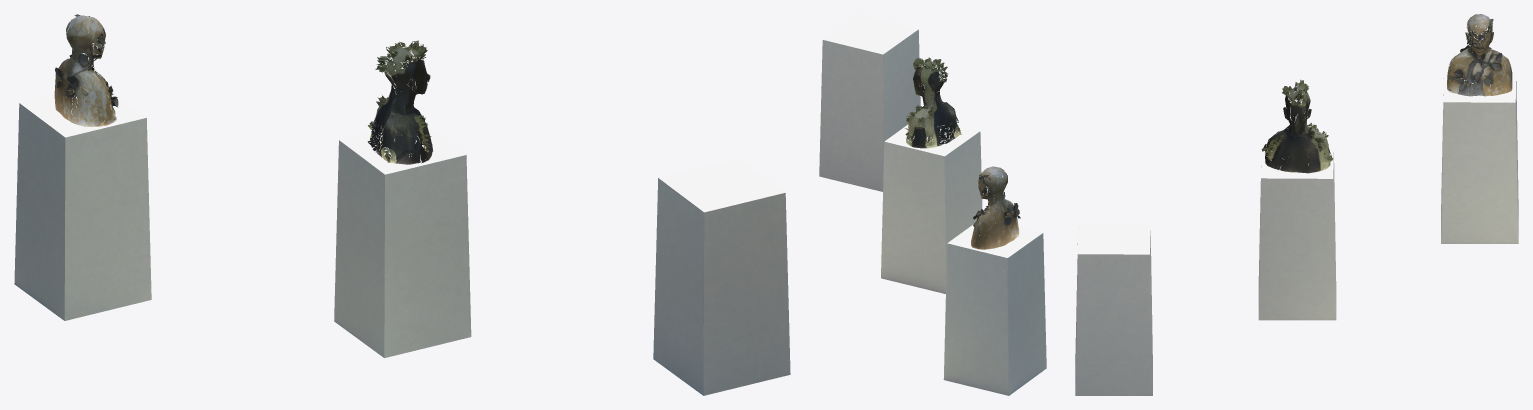
Rendered from StatueFix_LOD3.glb.
The picture shows the model from 3 angles, left to right: view 1: azimuth 30°, elevation 25°; view 2: azimuth 150°, elevation 25°; view 3: azimuth 270°, elevation 25°; orthographic projection. The views are drawn at different scales.
Visible parts, largest first — view 1: Statue Place.001_LOD3; view 2: Statue Place.001_LOD3; view 3: Statue Place.001_LOD3.
Boxes of the visible parts, box(x1,y1,x2,y2) form: Statue Place.001_LOD3: box(14, 14, 790, 395); Statue Place.001_LOD3: box(819, 14, 1046, 395); Statue Place.001_LOD3: box(1075, 14, 1518, 395).
Size of the model in its own units: 3.38 by 1.87 by 3.42.
Materials: 2 (2 with a texture image).
